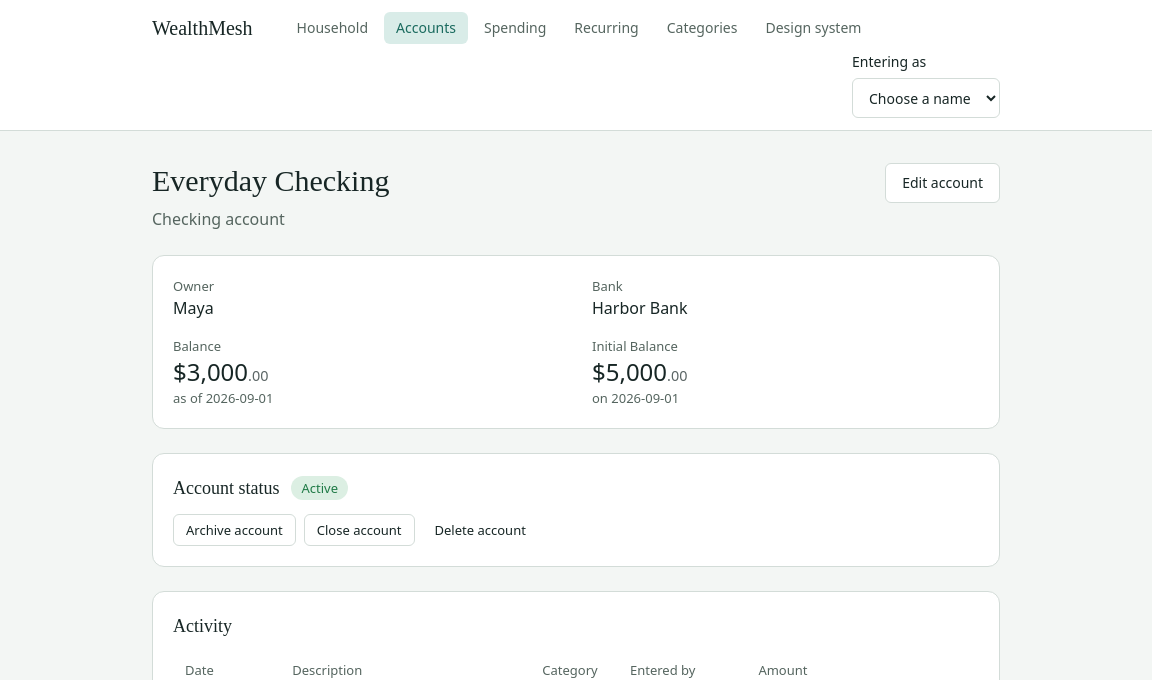
changing and removing a transfer › V2_TRANSFER_001 reviews the three Balances after a change of amount, date and destination
The image size is (1152, 680).
Select "Maya" in the dropdown labelled "Entering as" at (926, 98), box [852,78,1000,118]
(page scrolled)
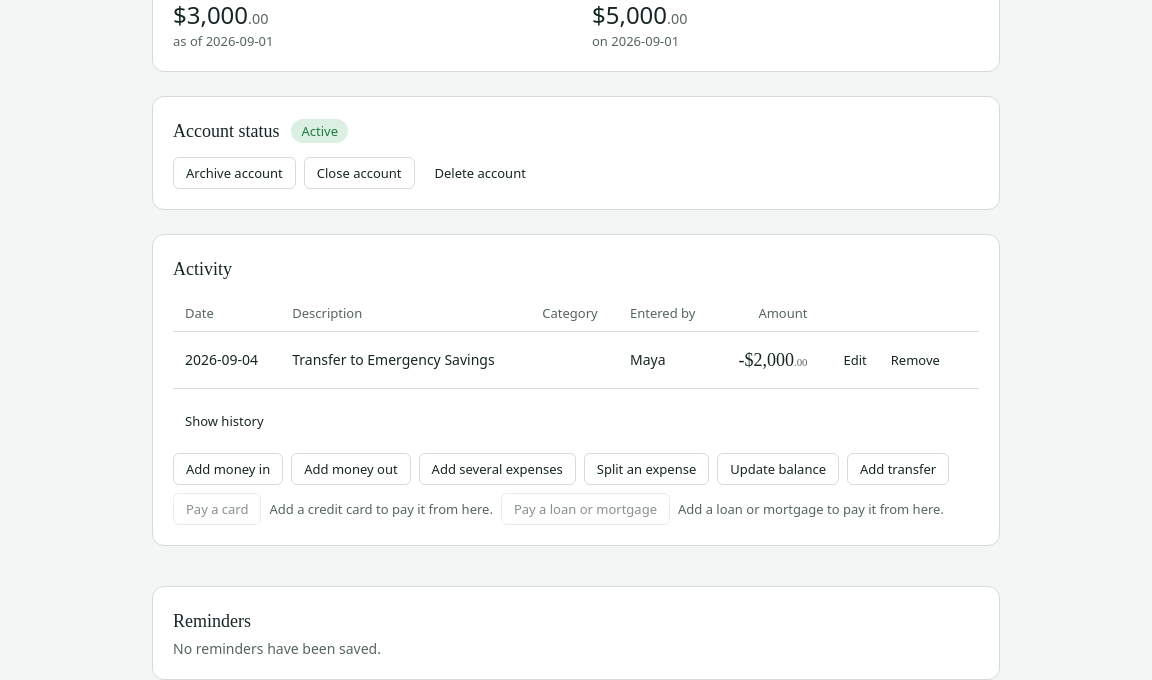
Click the button with aria-label "Edit transfer to Emergency Savings" at (855, 360), box [832,344,879,376]
(page scrolled)
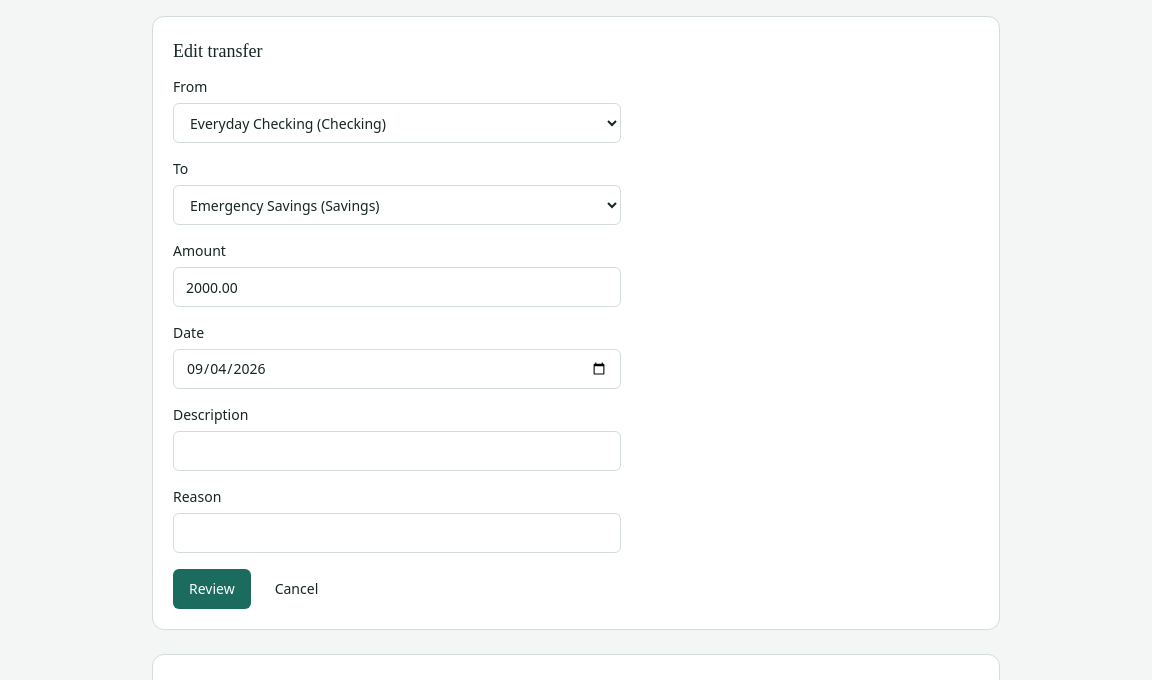
Check: the heading "Edit transfer" is shown, box [173,41,262,61]
Select "Holiday Savings (Savings)" in the dropdown labelled "To" at (397, 205), box [173,185,621,225]
Replace the text in the field labelled "Amount" with "1500.00" at (397, 287), box [173,267,621,307]
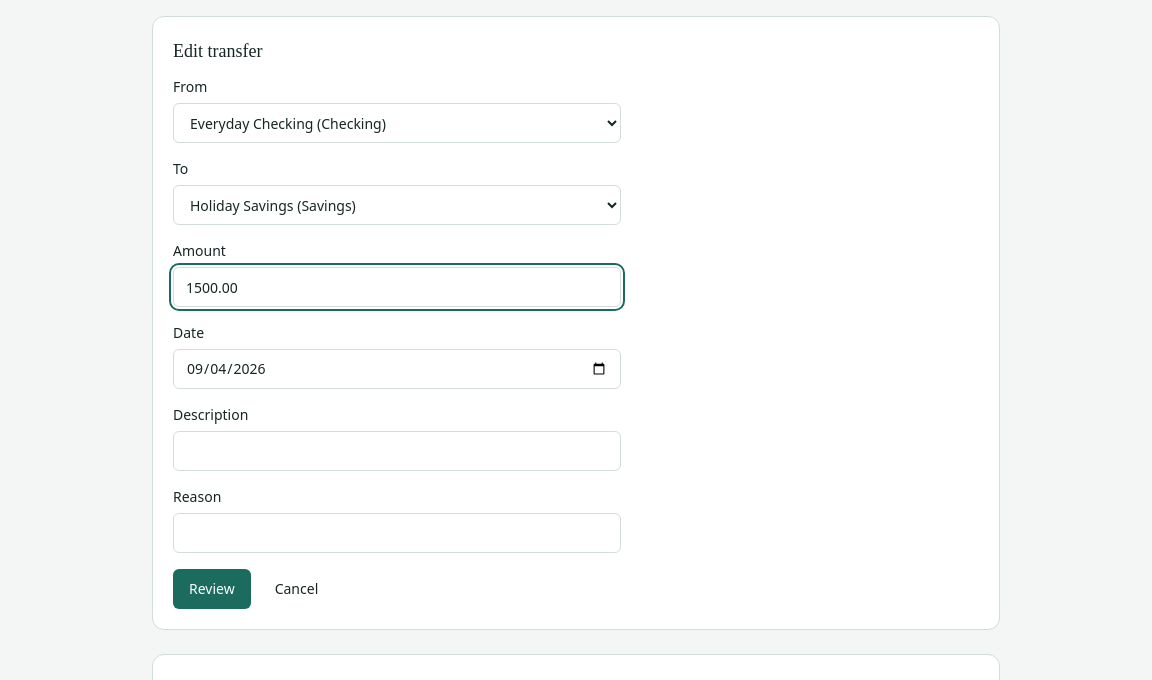
Type "2026-09-05" into the date field labelled "Date" at (397, 369), box [173,349,621,389]
Type "Wrong savings account" into the field labelled "Reason" at (397, 533), box [173,513,621,553]
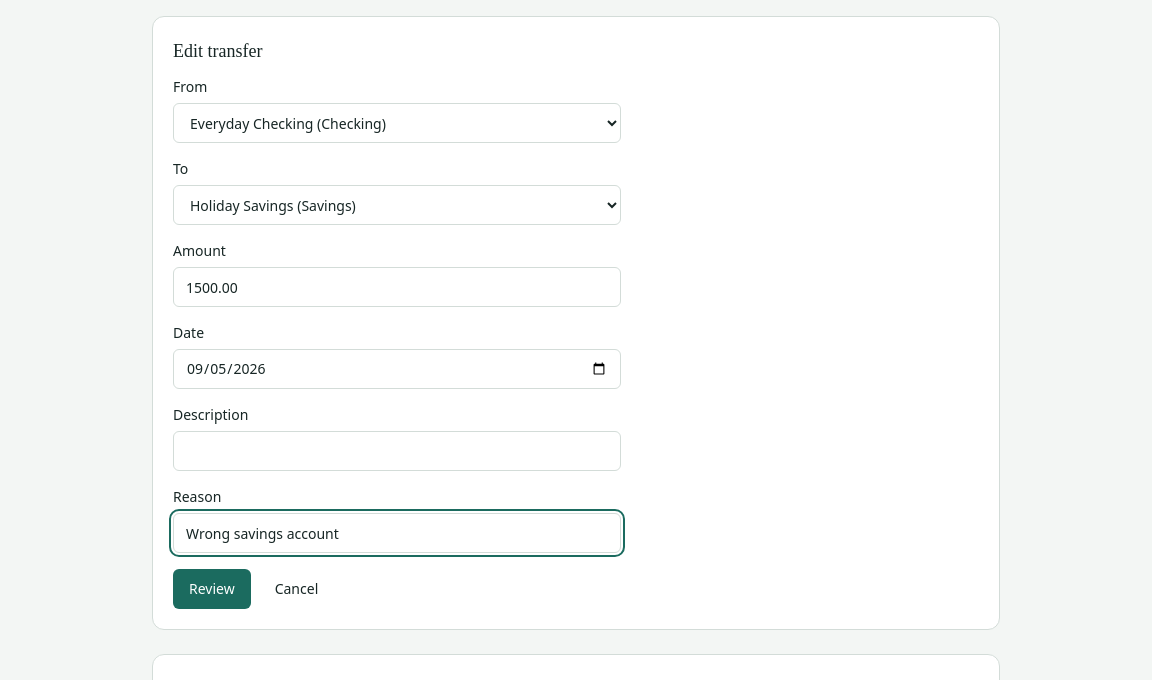
Click the button "Review" at (212, 589), box [173,569,251,609]
(page scrolled)
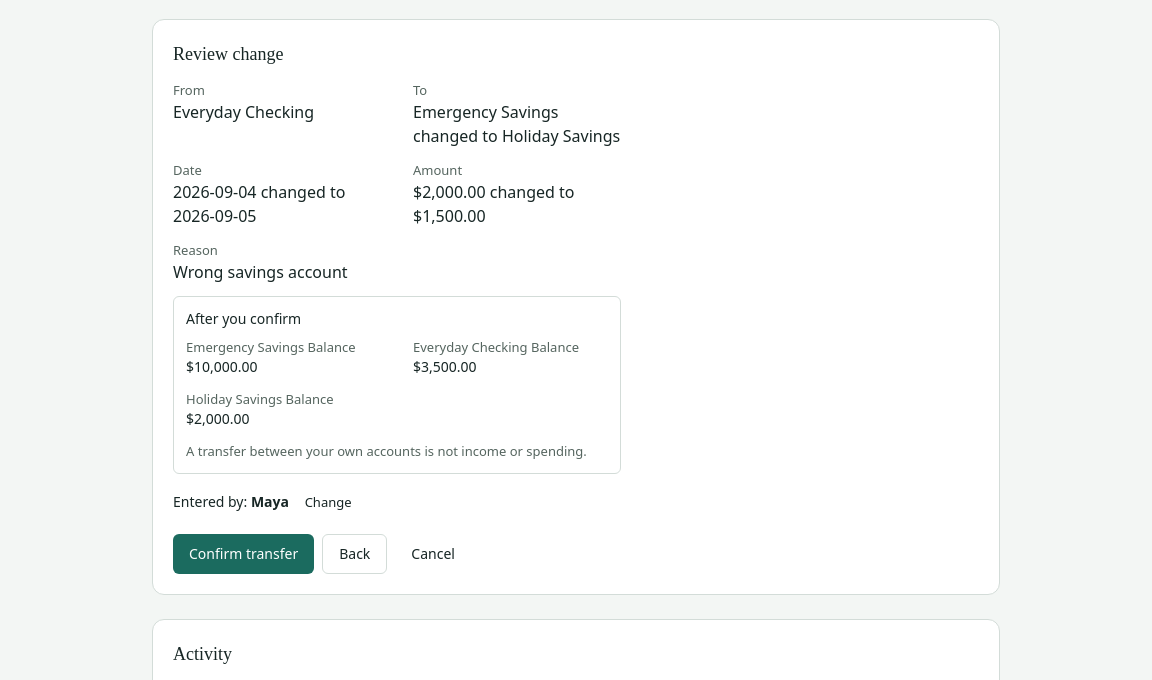
Check: the text "Holiday Savings Balance" is shown, box [186,390,334,408]
Check: the text "Emergency Savings changed to Holiday Savings" is shown, box [413,100,621,148]
Check: the text "$2,000.00 changed to $1,500.00" is shown, box [413,181,575,227]
Click the button "Confirm transfer" at (244, 554), box [173,534,314,574]
(page scrolled)
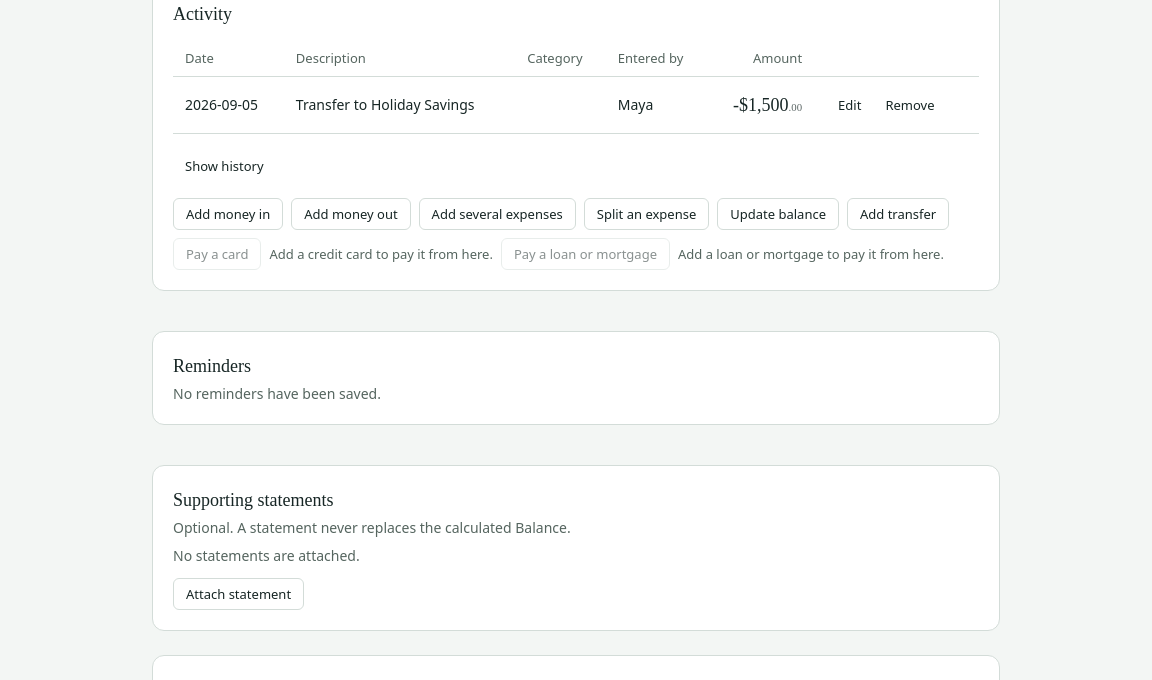
Check: the link "Holiday Savings" is shown, box [371,95,474,114]
